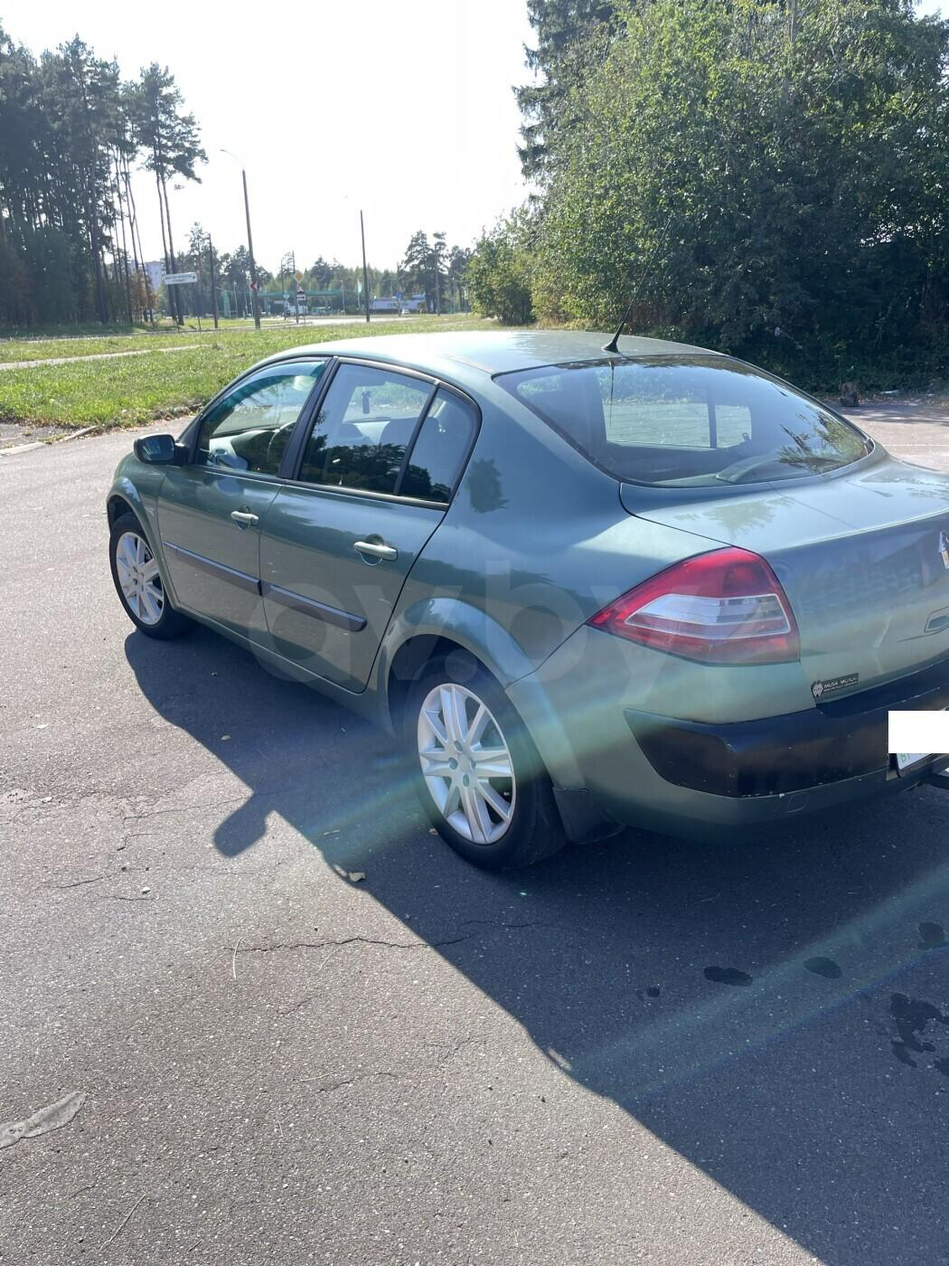Megane_2005-2009: (101, 327, 949, 874)
